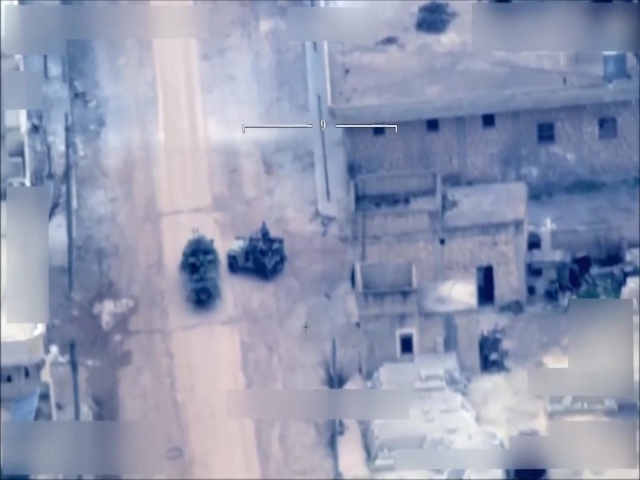vehicle: (178, 233, 224, 309), (225, 232, 289, 279)
